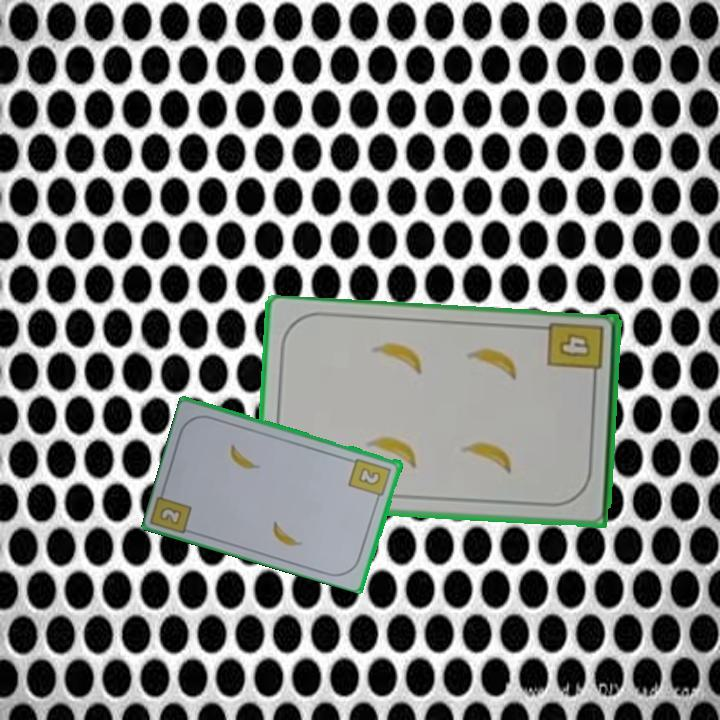2b: (346, 455, 394, 504), (158, 505, 183, 525)
4b: (544, 319, 607, 386)
